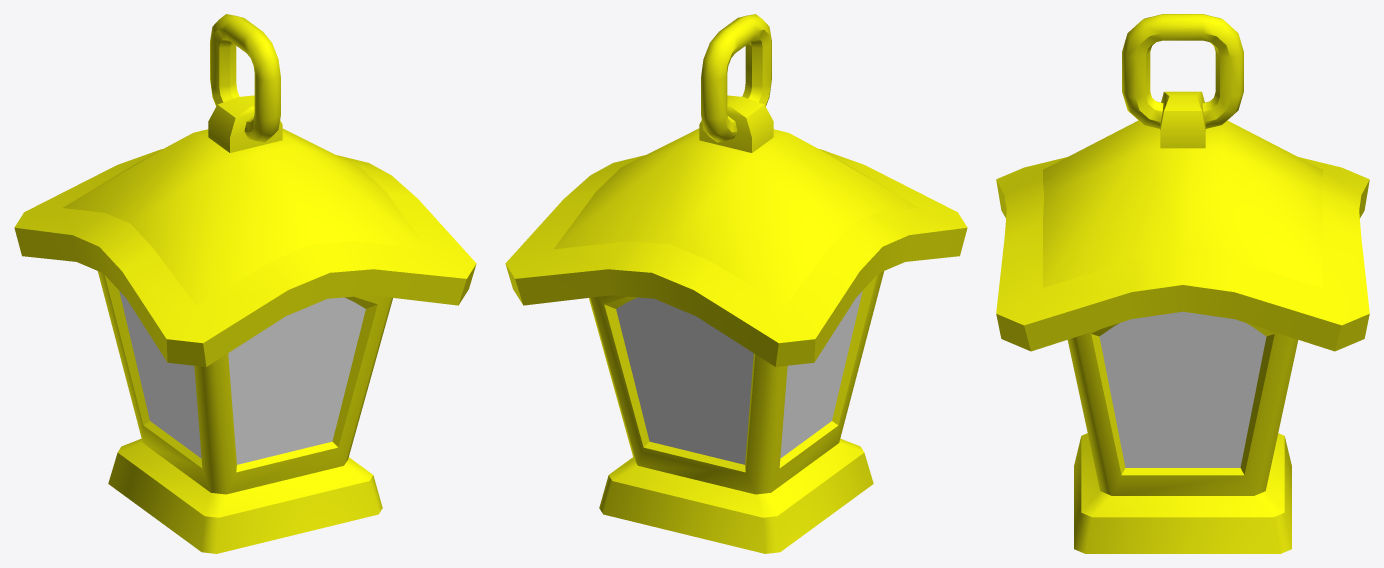
Rendered from kaykit-rpgtools-lantern.glb.
The picture shows the model from 3 angles, left to right: view 1: azimuth 30°, elevation 25°; view 2: azimuth 150°, elevation 25°; view 3: azimuth 270°, elevation 25°; orthographic projection. The views are drawn at different scales.
Parts seen in each view (by area): view 1: lantern; view 2: lantern; view 3: lantern.
Part boxes in pixels (<box>): lantern: <box>14,14,476,553</box>; lantern: <box>505,14,967,553</box>; lantern: <box>996,14,1369,553</box>.
Size of the model in its own units: 0.7529 by 1.11 by 0.7529.
